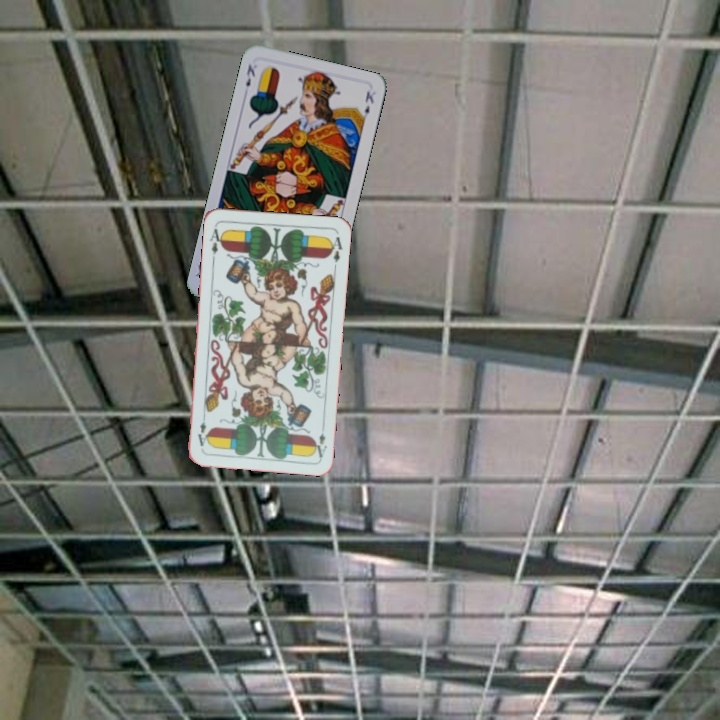EA: (205, 222, 226, 263), (310, 419, 330, 460)
EK: (242, 60, 258, 89)
